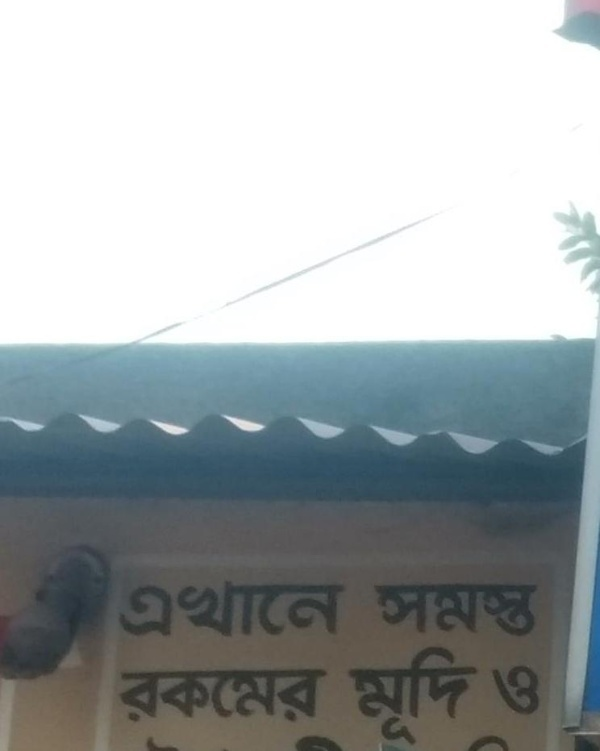text: (353, 645, 368, 748), (369, 645, 384, 748), (385, 645, 400, 748), (401, 645, 416, 748), (417, 645, 432, 748), (433, 645, 448, 748), (449, 645, 464, 748), (465, 645, 480, 748), (129, 577, 144, 639), (145, 577, 160, 639), (161, 577, 176, 639), (177, 577, 192, 639), (193, 577, 208, 639), (209, 577, 224, 639), (225, 577, 240, 639), (241, 577, 256, 639), (257, 577, 272, 639), (273, 577, 288, 639), (289, 577, 304, 639), (305, 577, 320, 639), (321, 577, 336, 639), (385, 580, 400, 637), (401, 580, 416, 637), (417, 580, 432, 637), (433, 580, 448, 637), (449, 580, 464, 637), (465, 580, 480, 637), (481, 580, 496, 637), (497, 580, 512, 637), (513, 580, 528, 637), (529, 664, 545, 717), (129, 670, 144, 726), (145, 670, 160, 726), (161, 670, 176, 726), (177, 670, 192, 726), (193, 670, 208, 726), (209, 670, 224, 726), (225, 670, 240, 726), (241, 670, 256, 726), (257, 670, 272, 726), (273, 670, 288, 726), (289, 670, 304, 726), (305, 670, 320, 726), (497, 664, 512, 717), (513, 664, 528, 717), (529, 580, 540, 637), (118, 577, 128, 639), (337, 577, 346, 639), (375, 580, 384, 637), (121, 670, 128, 726), (321, 670, 328, 726), (145, 735, 160, 751), (161, 735, 176, 751), (305, 735, 320, 751), (321, 735, 336, 751), (481, 733, 496, 749), (497, 733, 512, 749), (492, 664, 496, 717), (351, 645, 352, 748), (298, 735, 304, 751), (476, 733, 480, 749), (177, 735, 180, 751), (337, 735, 340, 751), (143, 735, 144, 751), (513, 733, 514, 749)
